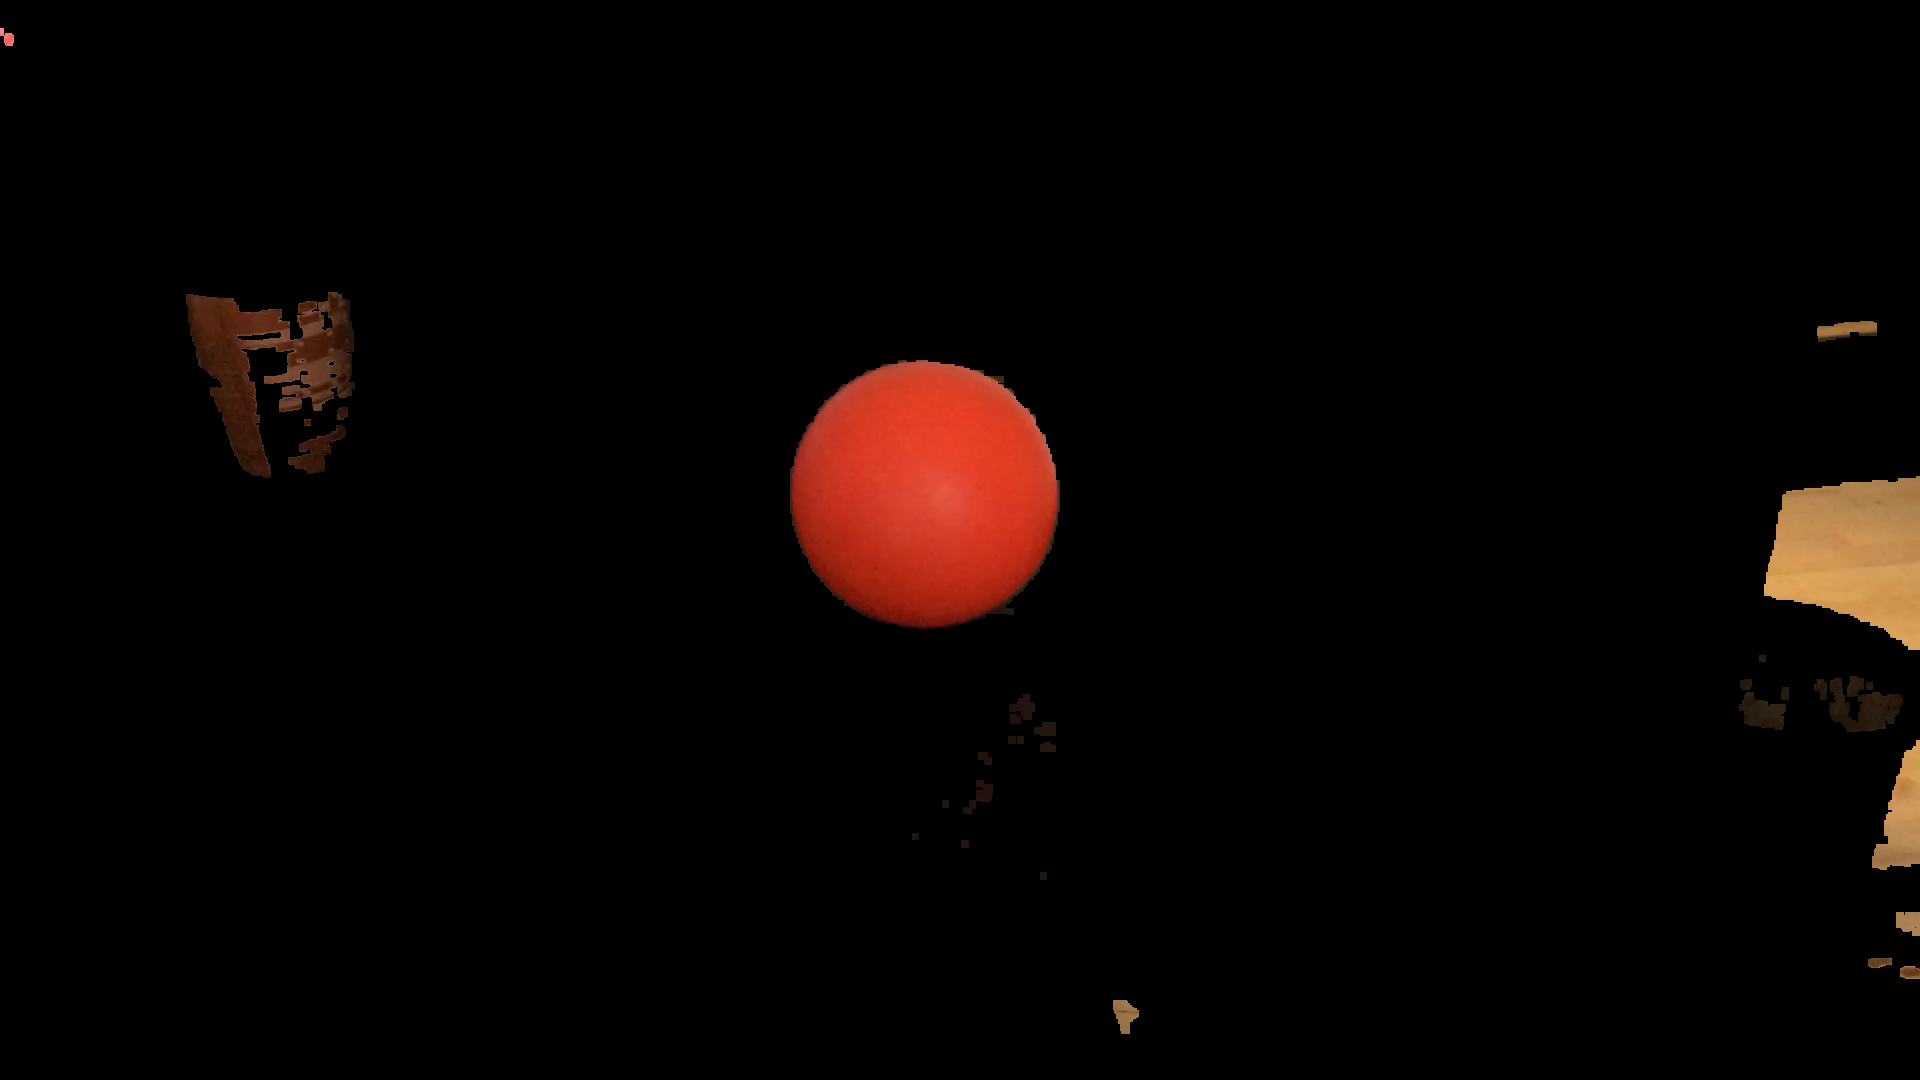Ball: (795, 357, 1069, 626)
